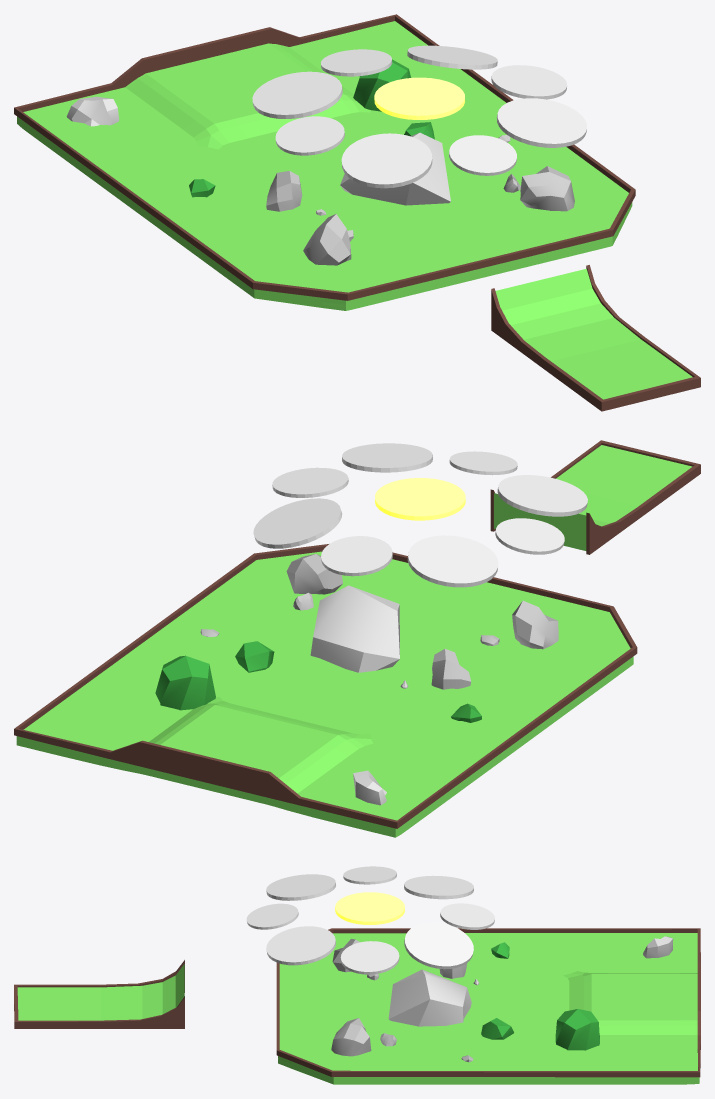
3 renders of one model, top to bottom at view 1: azimuth 30°, elevation 25°; view 2: azimuth 150°, elevation 25°; view 3: azimuth 270°, elevation 25°, orthographic. The views are drawn at different scales.
Parts seen in each view (by area): view 1: Cube.072, Cube.071, Cube.074, Cylinder.036, Cube.073, Cylinder.038, Cylinder.037, Cylinder.030, rock.306, Cylinder.034, Cylinder.032, Cylinder.031 (+7 smaller); view 2: Cube.072, Cube.074, Cube.071, rock.306, Cylinder.037, Cylinder.035, Cylinder.030, Cylinder.036, Cube.073, rock.302, Cylinder.033, Cylinder.038 (+8 smaller); view 3: Cube.072, Cube.071, Cube.074, rock.306, Cube.073, Cylinder.035, Cylinder.038, Cylinder.030, rock.302, Cylinder.031, Cylinder.036, Cylinder.037 (+6 smaller).
Part boxes in pixels (x1,y1,x2,y2): Cube.072: (17,21,632,310); Cube.071: (495,268,692,399); Cube.074: (14,14,635,300); Cylinder.036: (341,133,432,188); Cube.073: (491,265,700,411); Cylinder.038: (497,98,586,147); Cylinder.037: (252,71,342,118); Cylinder.030: (374,77,464,119); rock.306: (340,132,450,205); Cylinder.034: (449,135,516,175); Cylinder.032: (275,116,344,155); Cylinder.031: (491,65,567,99); Cube.072: (16,551,633,837); Cube.074: (14,544,637,828); Cube.071: (494,445,692,550); rock.306: (310,585,399,672); Cylinder.037: (407,535,498,587); Cylinder.035: (253,498,342,548); Cylinder.030: (375,478,465,520); Cylinder.036: (497,475,587,516); Cube.073: (490,440,700,554); rock.302: (155,655,215,710); Cylinder.033: (321,536,392,576); Cylinder.038: (342,443,432,472); Cube.072: (278,933,699,1084); Cube.071: (17,964,184,1020); Cube.074: (276,928,700,1077); rock.306: (388,969,471,1026); Cube.073: (14,960,184,1028); Cylinder.035: (404,922,473,969); Cylinder.038: (266,926,335,965); Cylinder.030: (335,892,404,924); rock.302: (555,1009,599,1050); Cylinder.031: (340,941,399,974); Cylinder.036: (266,874,335,900); Cylinder.037: (404,875,473,899).
Size of the model in its own units: 1626 by 762 by 3278.
